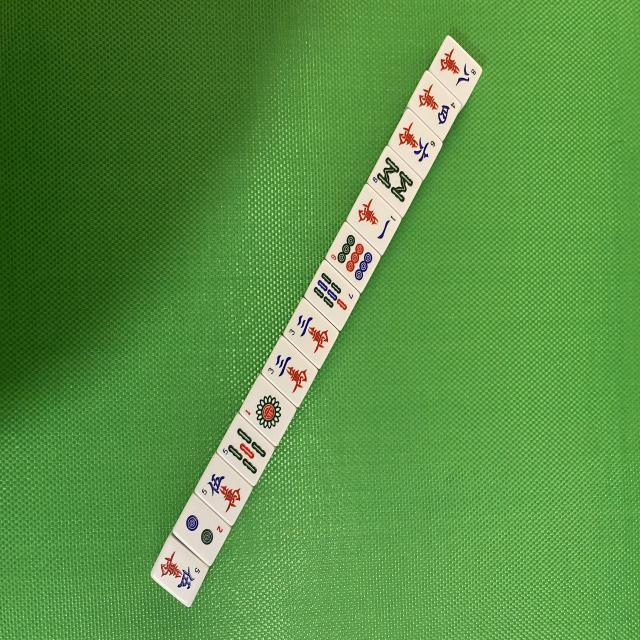sb5: (216, 412, 276, 487)
sb7: (304, 260, 361, 332)
sb8: (368, 156, 414, 202)
sc1: (353, 196, 399, 242)
sc3: (261, 334, 320, 407), (283, 297, 342, 370)
sc4: (412, 82, 455, 125)
sc5: (194, 452, 254, 528), (150, 534, 210, 608)
sc6: (392, 116, 439, 167)
sc8: (435, 41, 479, 91)
sd1: (238, 373, 300, 448)
sd2: (172, 493, 235, 568)
sd9: (326, 222, 384, 295)
